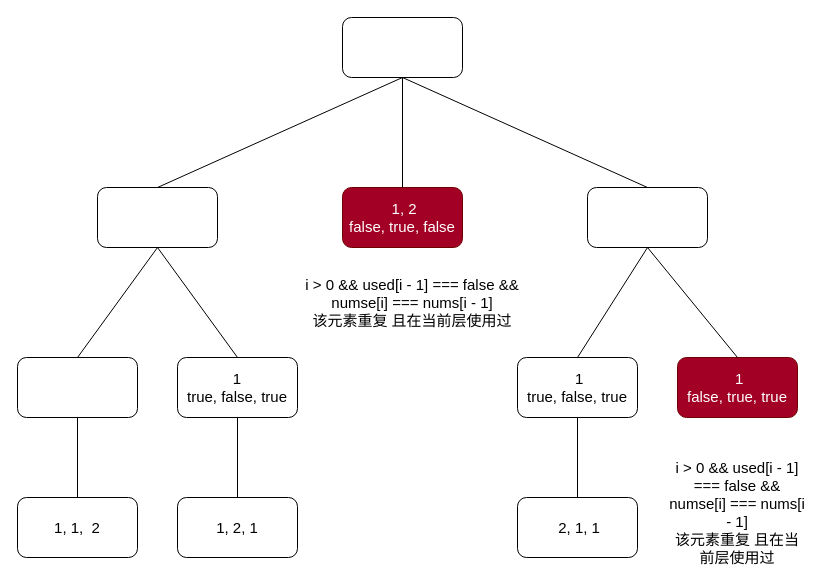
The diagram is 825 pixels wide and 584 high, and some of its shapes have lost their labels. Each missing label, with the centre of its shape:
"1, 1 false, false, true" goes at (647,217).
"1, 1, 2 false, false, false" goes at (402,47).
"1, 2 true, false, false" goes at (157,217).
"2 true, true, false" goes at (77,387).
